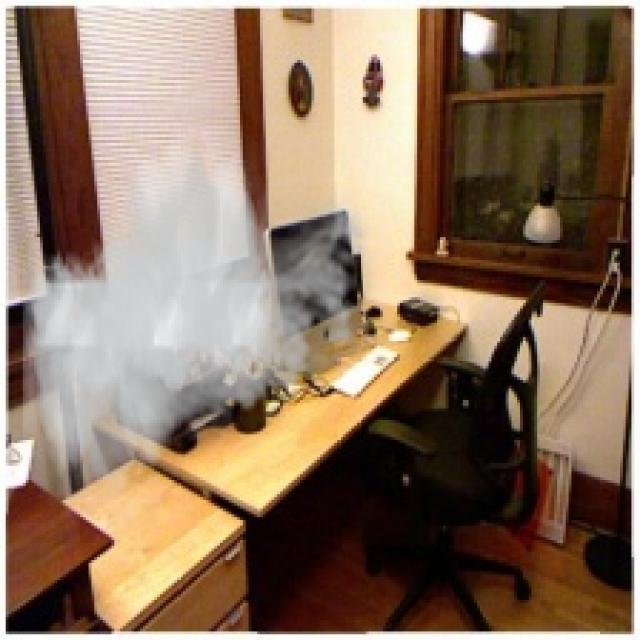Smoke: (22, 126, 378, 503)
